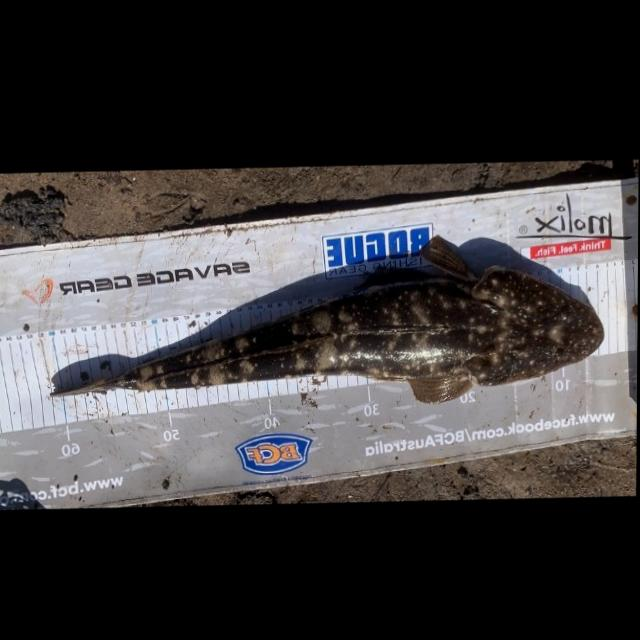Flathead: (43, 229, 616, 440)
